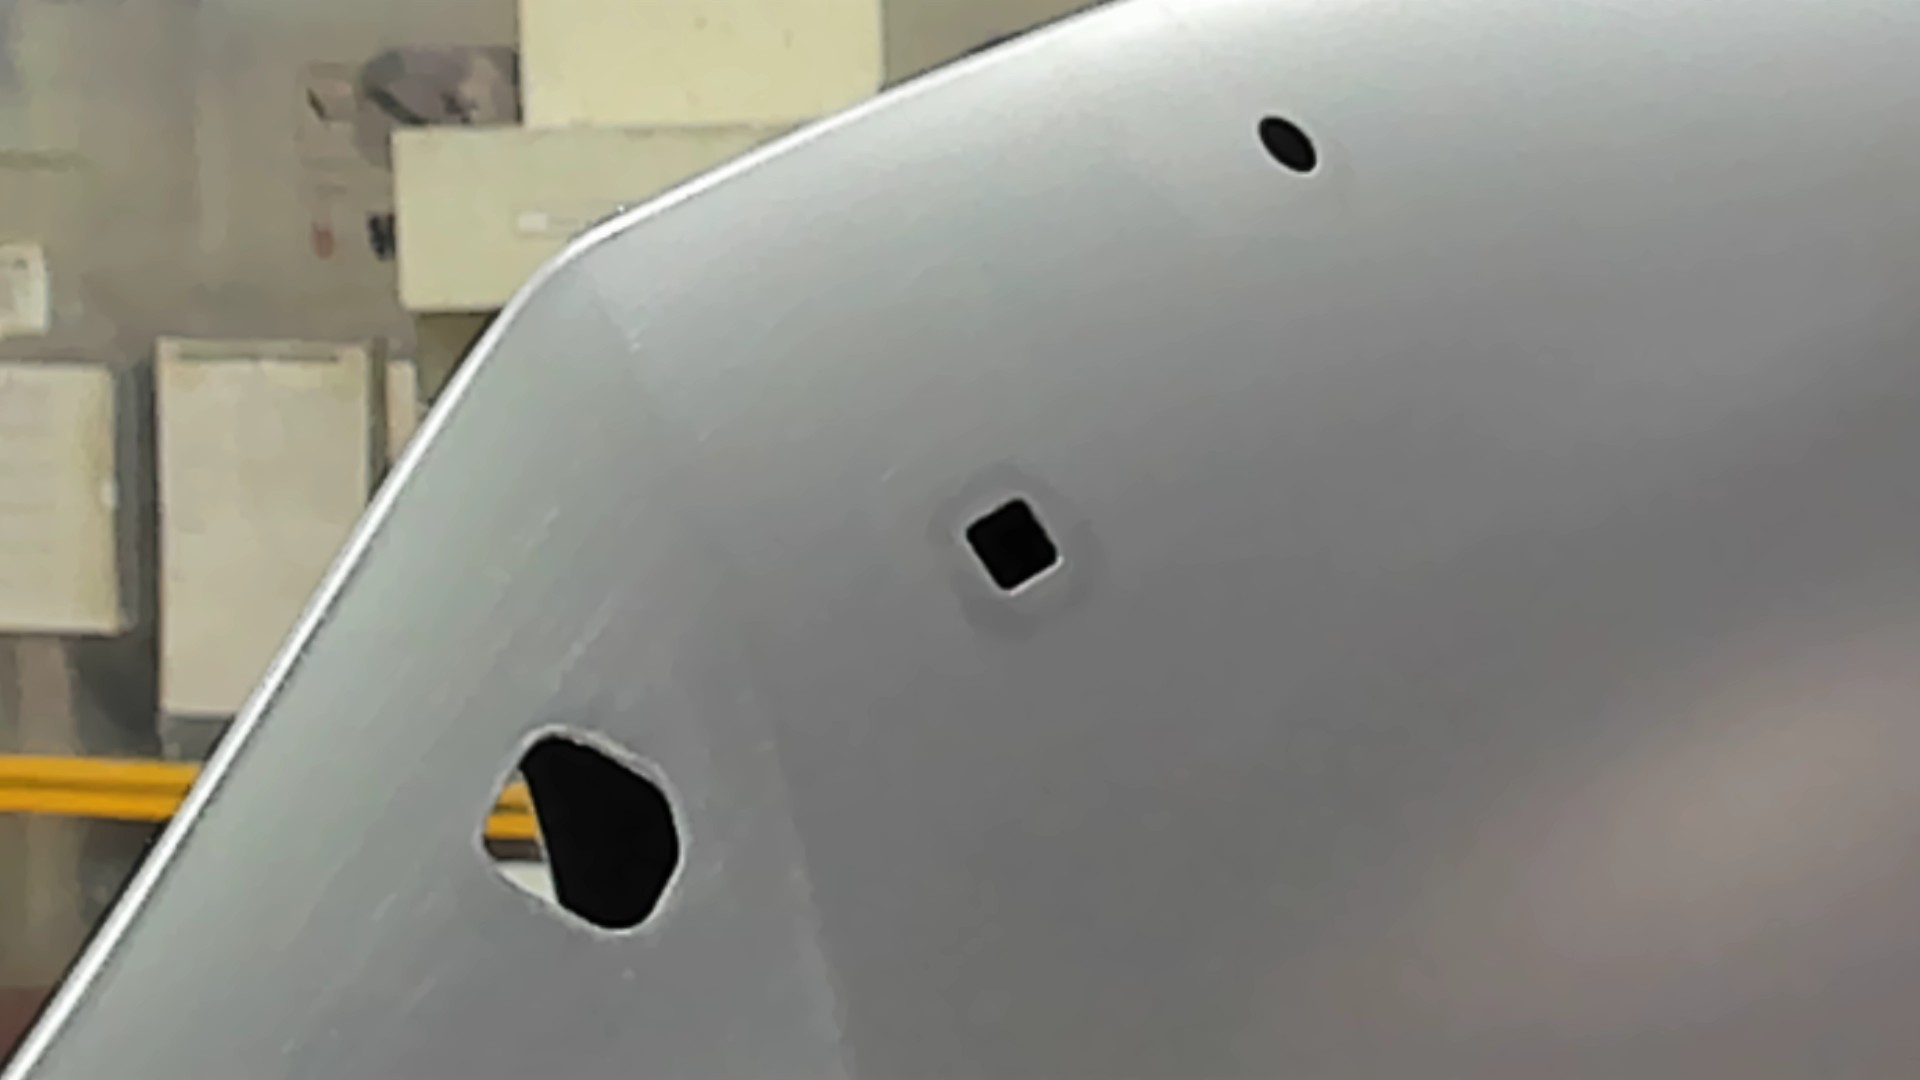chico: (1251, 109, 1324, 179)
grande: (471, 723, 694, 945)
mediano: (956, 491, 1069, 603)
